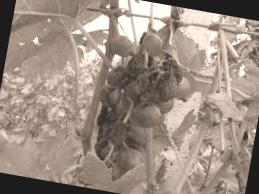Grape Rotten: (88, 24, 195, 174)
